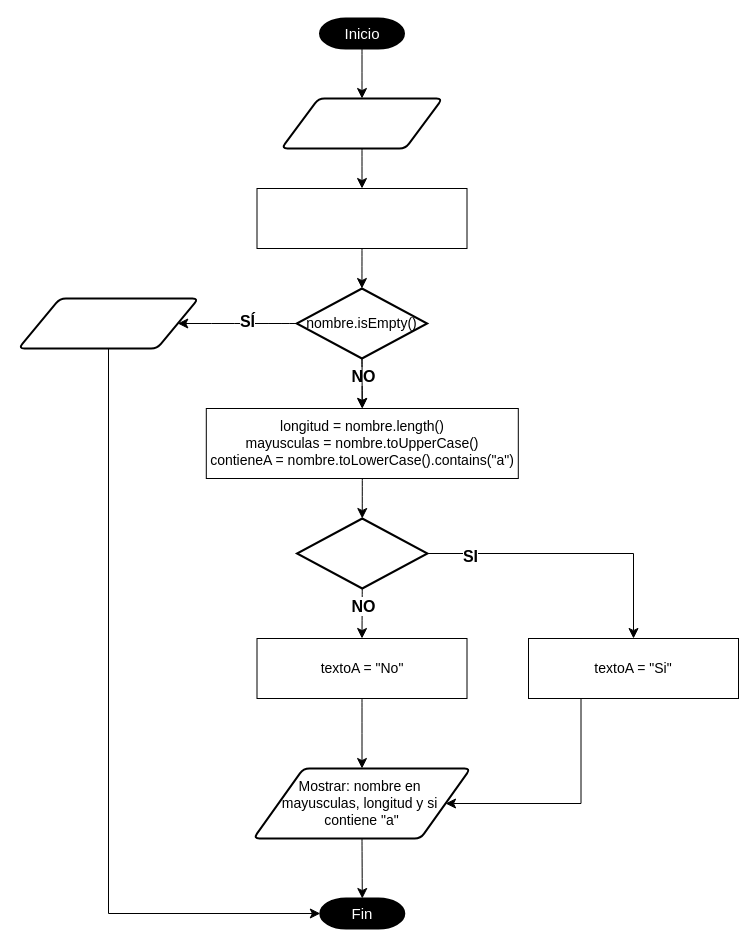
Image size: 756x946. Some labels were removed from this diagram. Here are the shapes that lost their labels. From the top down, the centre of each, then its label:
At point (361, 123): "Leer nombre".
At point (361, 218): "nombre = nombre.trim()".
At point (108, 323): "Mostrar error: el nombre esta vacio".
At point (362, 553): "contieneA".
